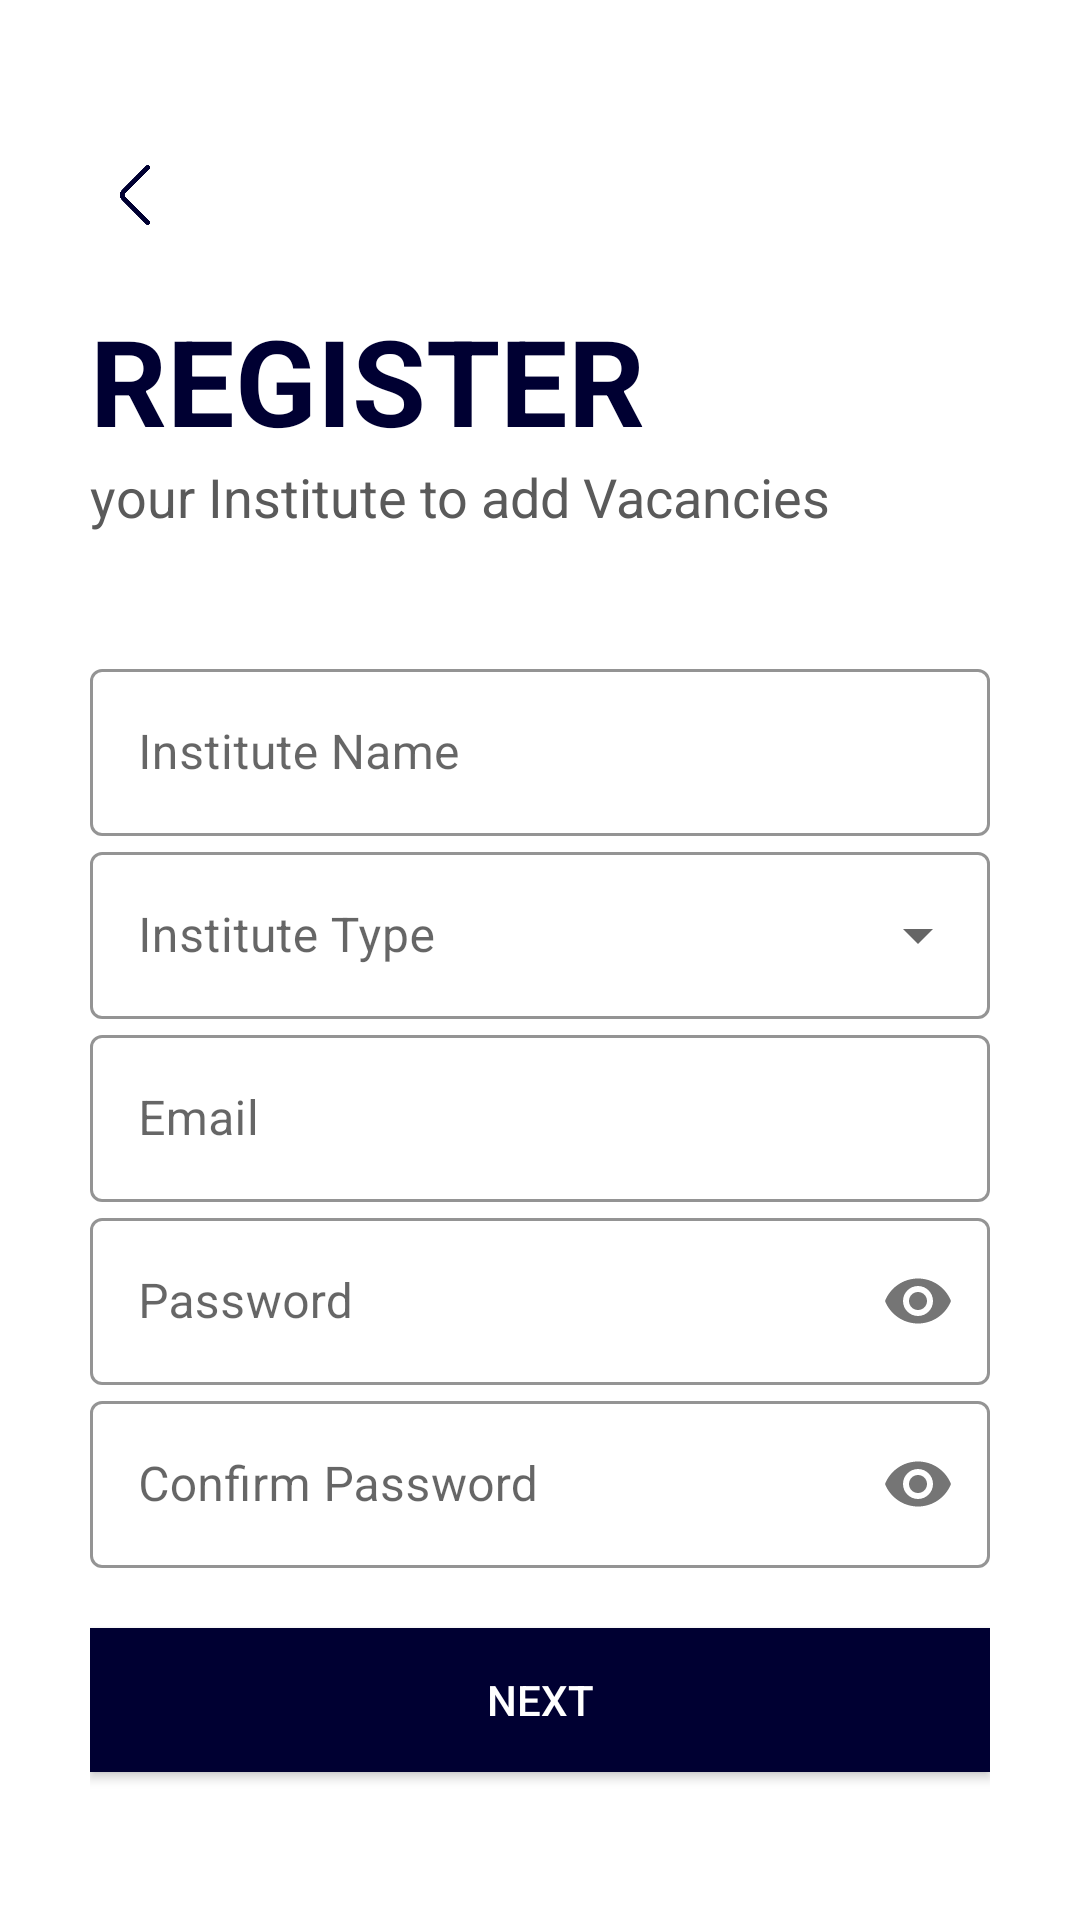

Where icons sit on this 1080*1920 app screen, as (x1, y1, x2, y2):
leftarrow: (120, 165, 150, 225)
